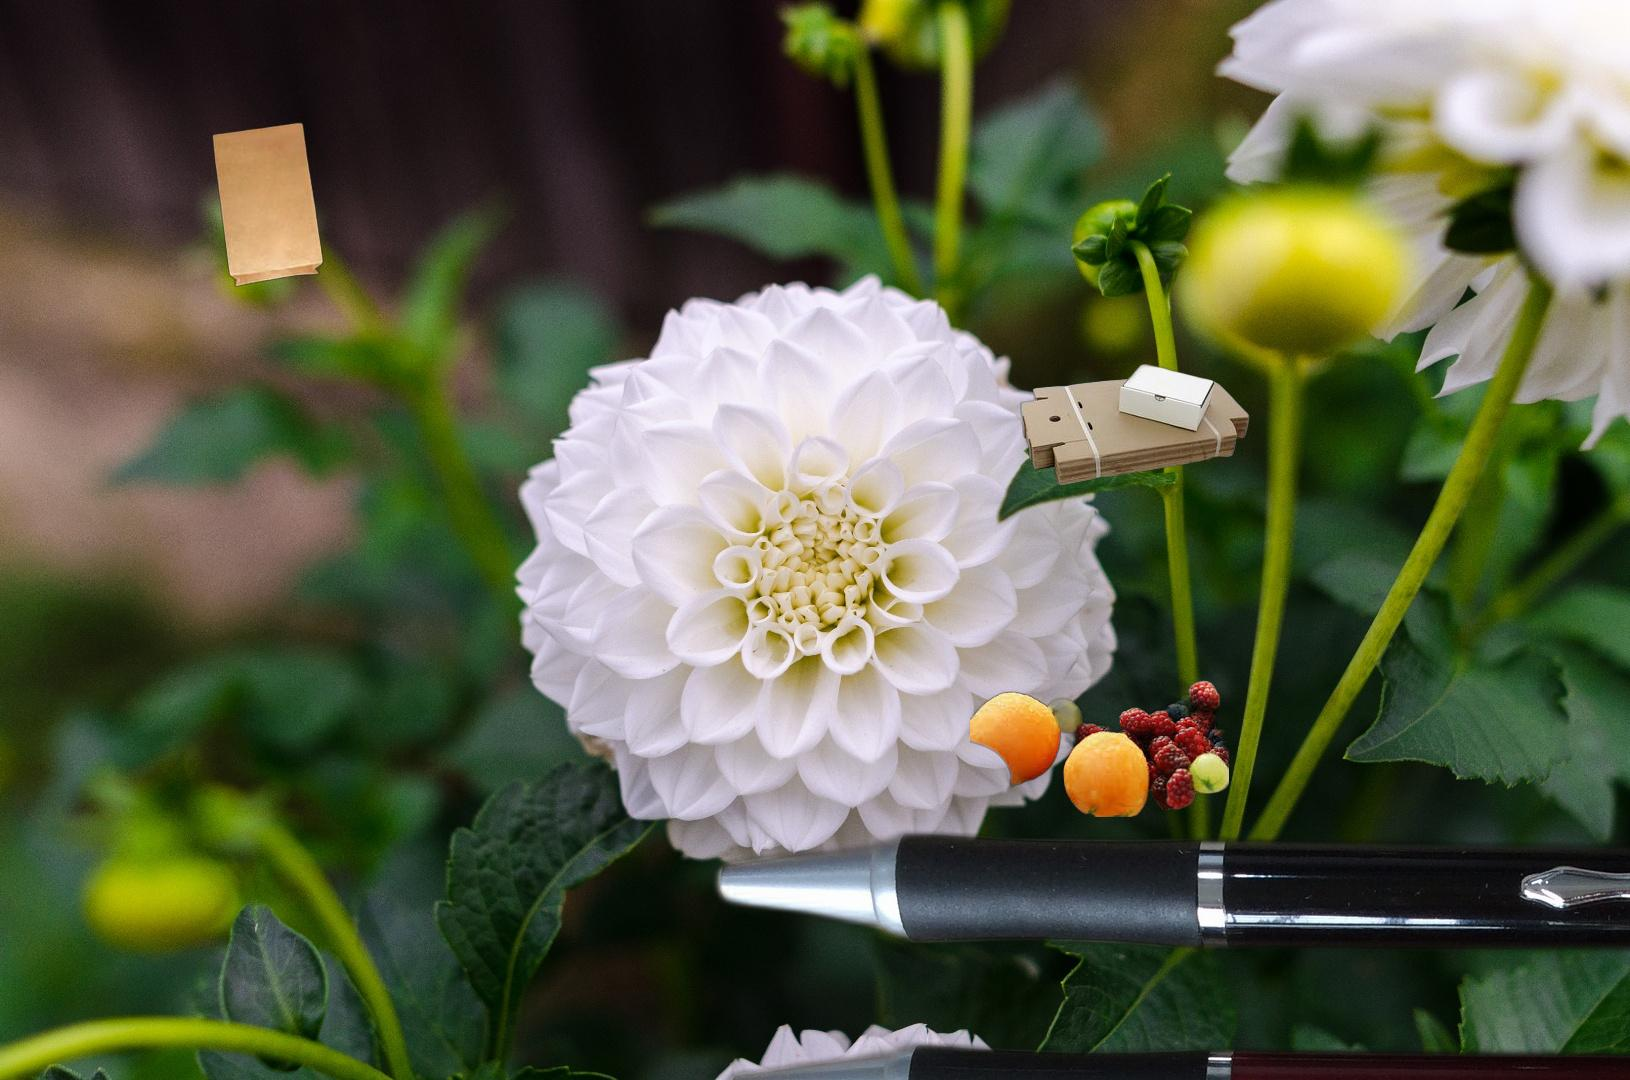biological: (970, 635, 1229, 817)
paper-bag: (210, 121, 326, 290)
penholder: (699, 820, 1630, 1080)
trashbox-cardboard: (1020, 364, 1252, 488)
